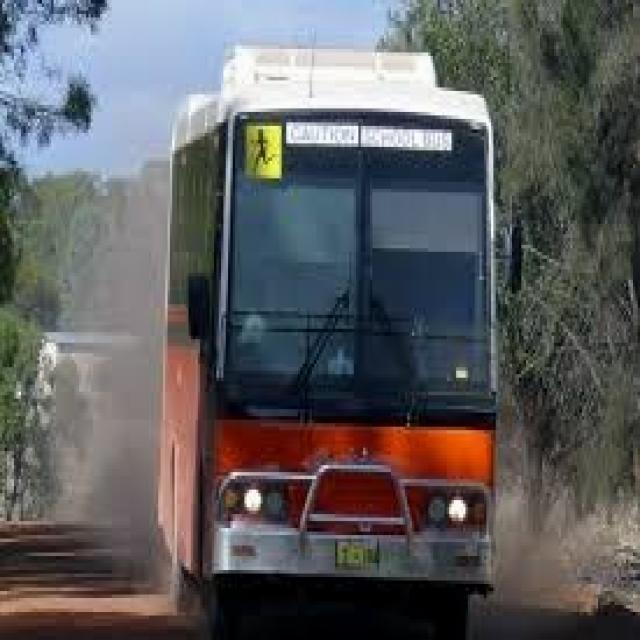bus: (142, 24, 531, 624)
